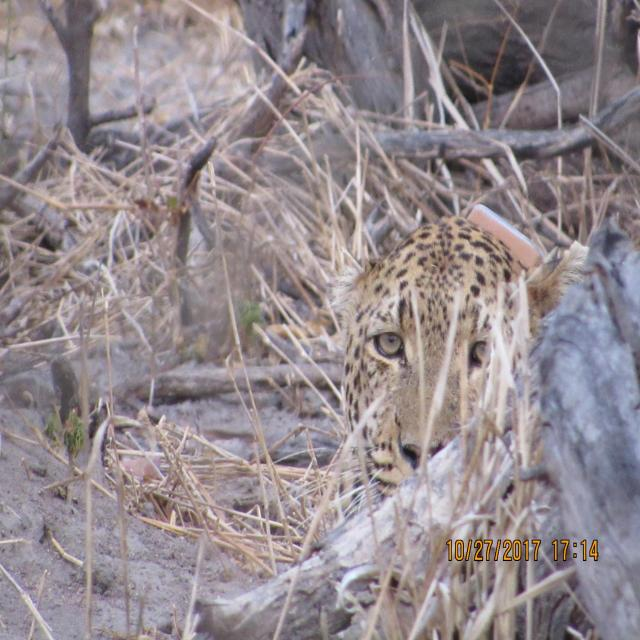Leopard: (296, 196, 560, 556)
